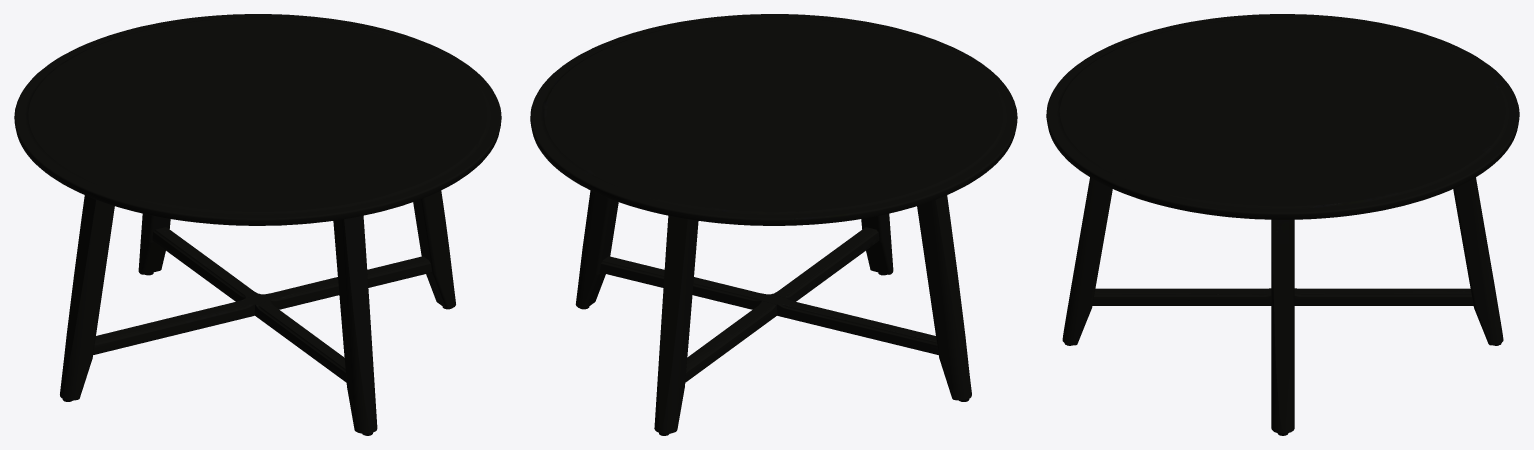
The picture shows the model from 3 angles, left to right: view 1: azimuth 30°, elevation 25°; view 2: azimuth 150°, elevation 25°; view 3: azimuth 270°, elevation 25°; orthographic projection. The views are drawn at different scales.
Parts seen in each view (by area): view 1: model; view 2: model; view 3: model.
Boxes of the visible parts, <box> form: model: <box>14,14,501,435</box>; model: <box>530,14,1017,435</box>; model: <box>1046,14,1519,435</box>.
Size of the model in its own units: 0.9001 by 0.487 by 0.9002.
1 material, 1 textured.
